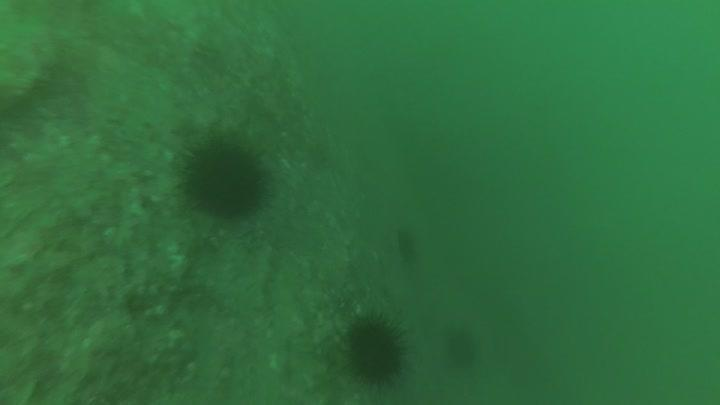urchin: (172, 128, 279, 225), (342, 309, 414, 389)
